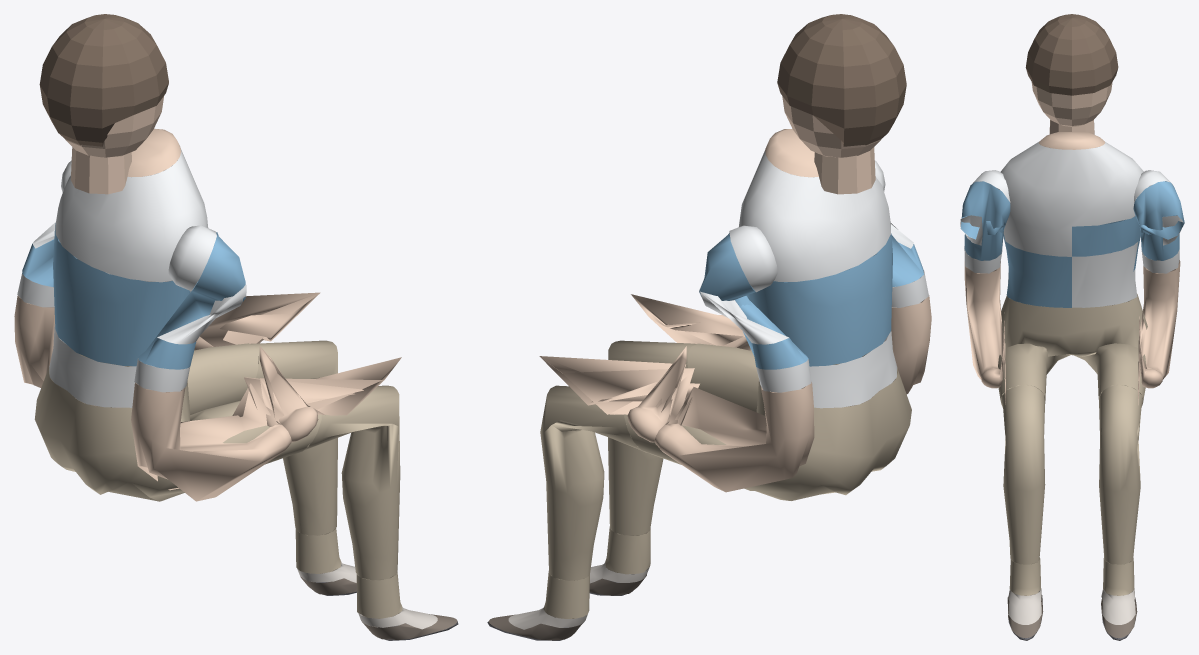
The model's file is rambla_seated_0.glb.
The picture shows the model from 3 angles, left to right: view 1: azimuth 30°, elevation 25°; view 2: azimuth 150°, elevation 25°; view 3: azimuth 270°, elevation 25°; orthographic projection. The views are drawn at different scales.
Parts seen in each view (by area): view 1: rider_torso; view 2: rider_torso; view 3: rider_torso.
Boxes of the visible parts, <box> form: rider_torso: <box>14,14,458,640</box>; rider_torso: <box>487,14,931,640</box>; rider_torso: <box>960,14,1184,640</box>.
Bounding box in the file's own units: 0.7582 × 1.25 × 0.5084.
